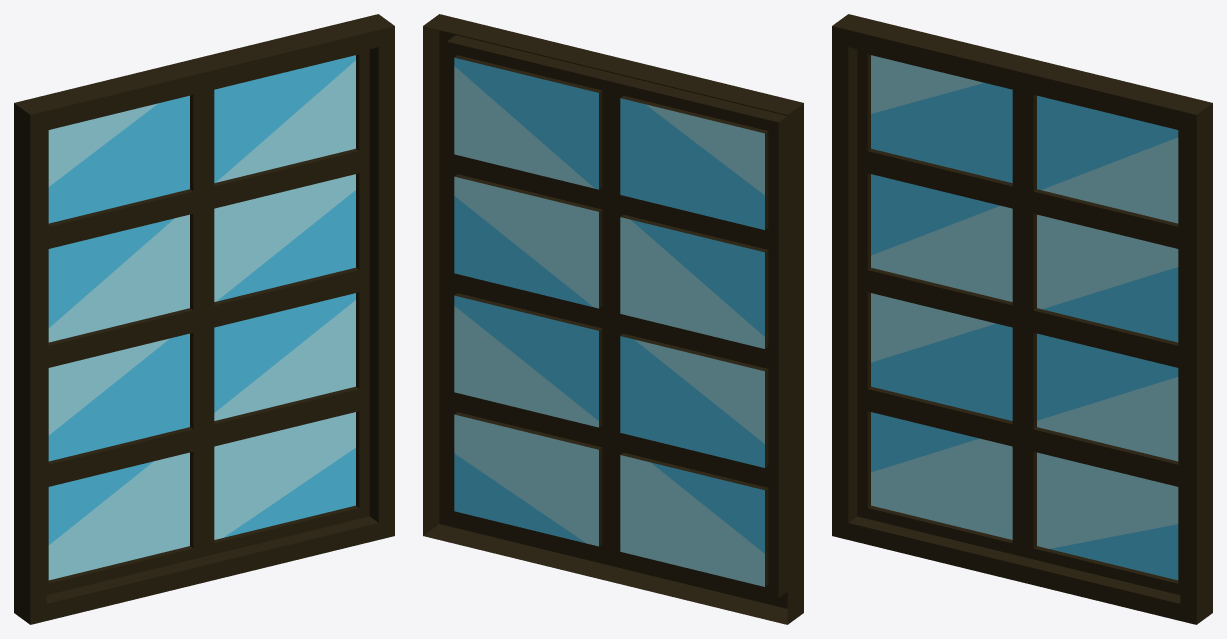
Rendered from Prop_BuildingWindow_05.fbx.
The picture shows the model from 3 angles, left to right: view 1: azimuth 30°, elevation 25°; view 2: azimuth 150°, elevation 25°; view 3: azimuth 330°, elevation 25°; orthographic projection.
Visible parts, largest first — view 1: Prop_BuildingWindow_05; view 2: Prop_BuildingWindow_05; view 3: Prop_BuildingWindow_05.
Boxes of the visible parts, x1,y1,x2,y2 form: Prop_BuildingWindow_05: [14, 14, 394, 624]; Prop_BuildingWindow_05: [423, 14, 803, 624]; Prop_BuildingWindow_05: [832, 14, 1212, 624].
Bounding box in the file's own units: 109 × 145 × 8.49.
